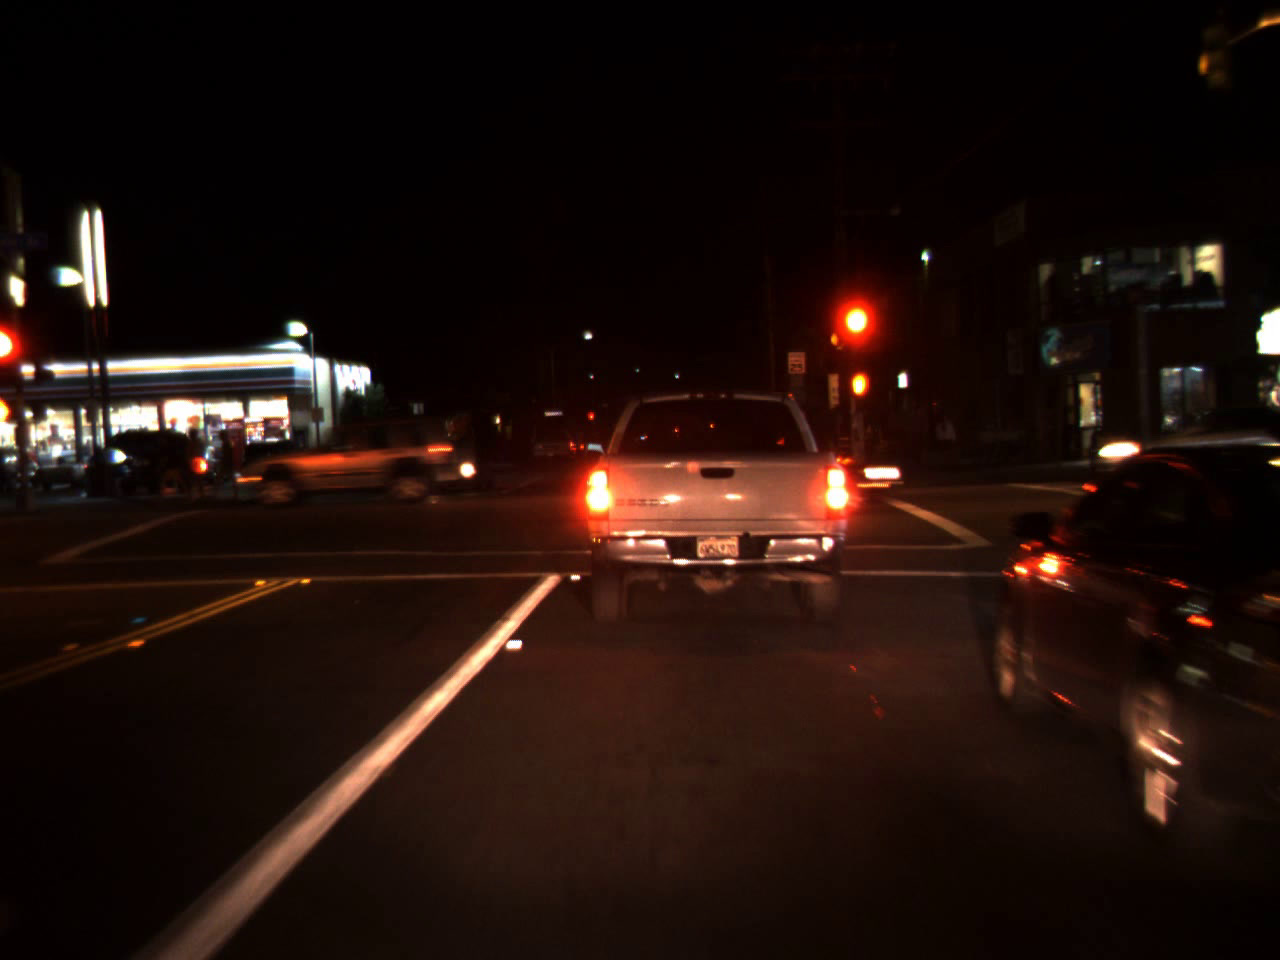stop: (838, 302, 874, 366), (0, 322, 19, 381), (589, 412, 595, 425)
